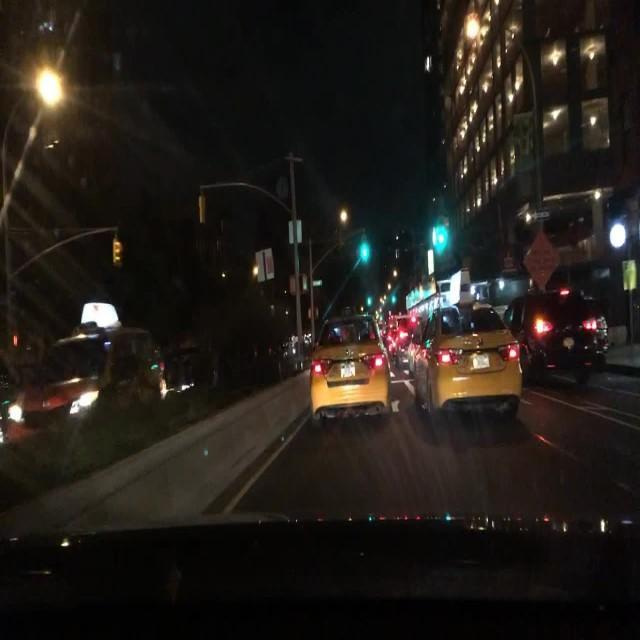normal: (270, 285, 640, 445)
